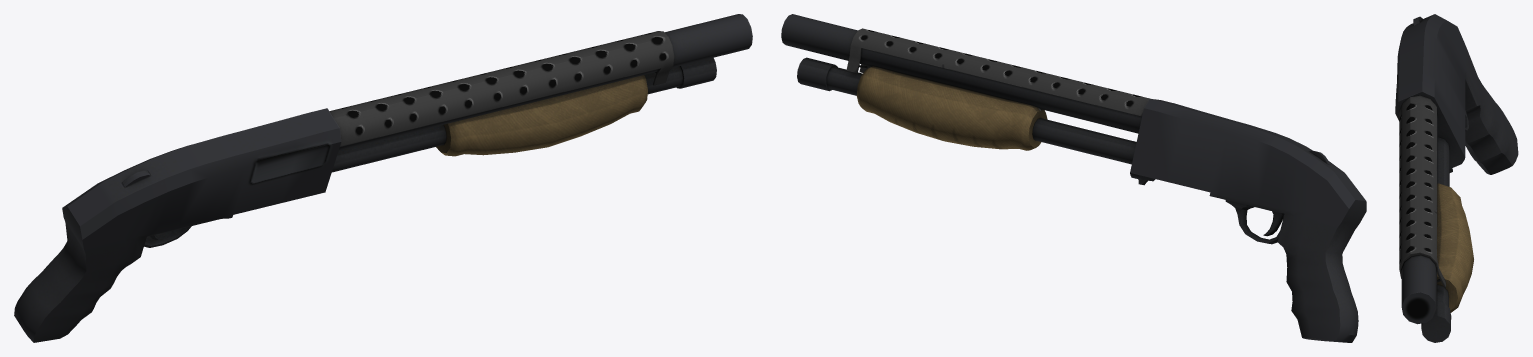
The model's file is shotgun_000027.obj.
The picture shows the model from 3 angles, left to right: view 1: azimuth 30°, elevation 25°; view 2: azimuth 150°, elevation 25°; view 3: azimuth 270°, elevation 25°; orthographic projection. The views are drawn at different scales.
Visible parts, largest first — view 1: mesh_Cube.001; view 2: mesh_Cube.001; view 3: mesh_Cube.001.
Part boxes in pixels (<box>): mesh_Cube.001: <box>14,14,752,342</box>; mesh_Cube.001: <box>781,14,1366,342</box>; mesh_Cube.001: <box>1395,14,1518,342</box>.
Size of the model in its own units: 1.89 by 0.5162 by 0.3055.
Materials: 1 (1 with a texture image).
